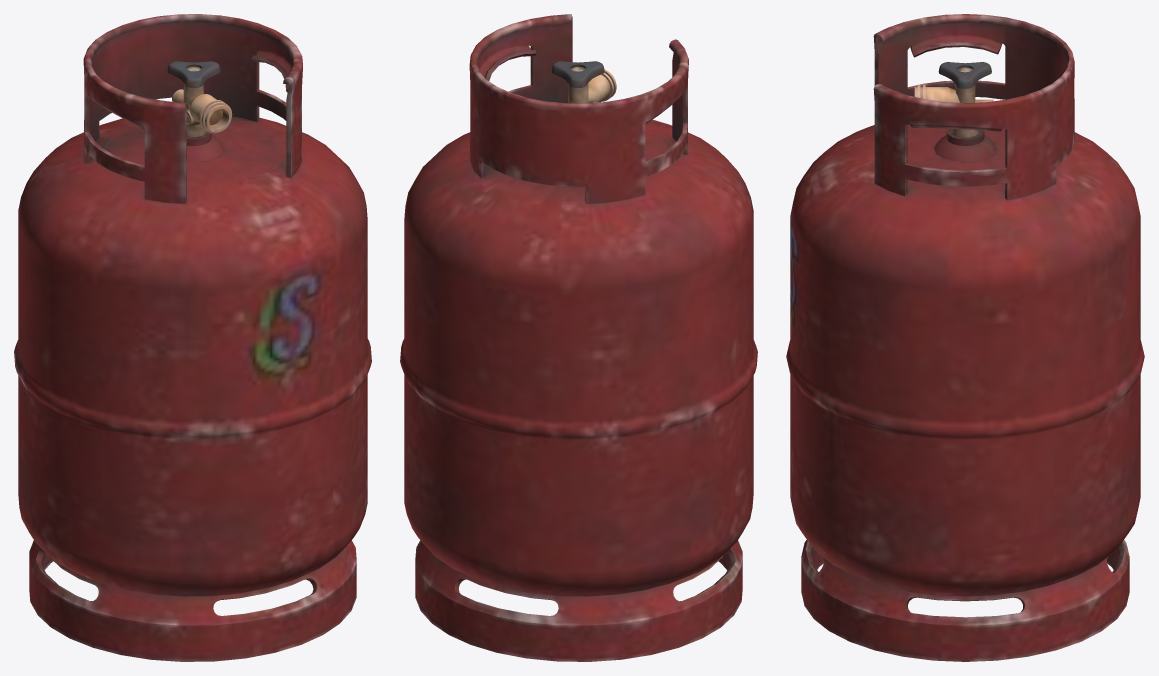
Rendered from propane.glb.
3 renders of one model, left to right at view 1: azimuth 30°, elevation 25°; view 2: azimuth 150°, elevation 25°; view 3: azimuth 270°, elevation 25°, orthographic.
Visible parts, largest first — view 1: propane_tank; view 2: propane_tank; view 3: propane_tank.
Part boxes in pixels (left/top/right/bottom): propane_tank: left=14, top=14, right=371, bottom=661; propane_tank: left=400, top=14, right=757, bottom=661; propane_tank: left=786, top=14, right=1144, bottom=661.
Bounding box in the file's own units: 0.3374 × 0.5538 × 0.3374.
1 material, 1 textured.
